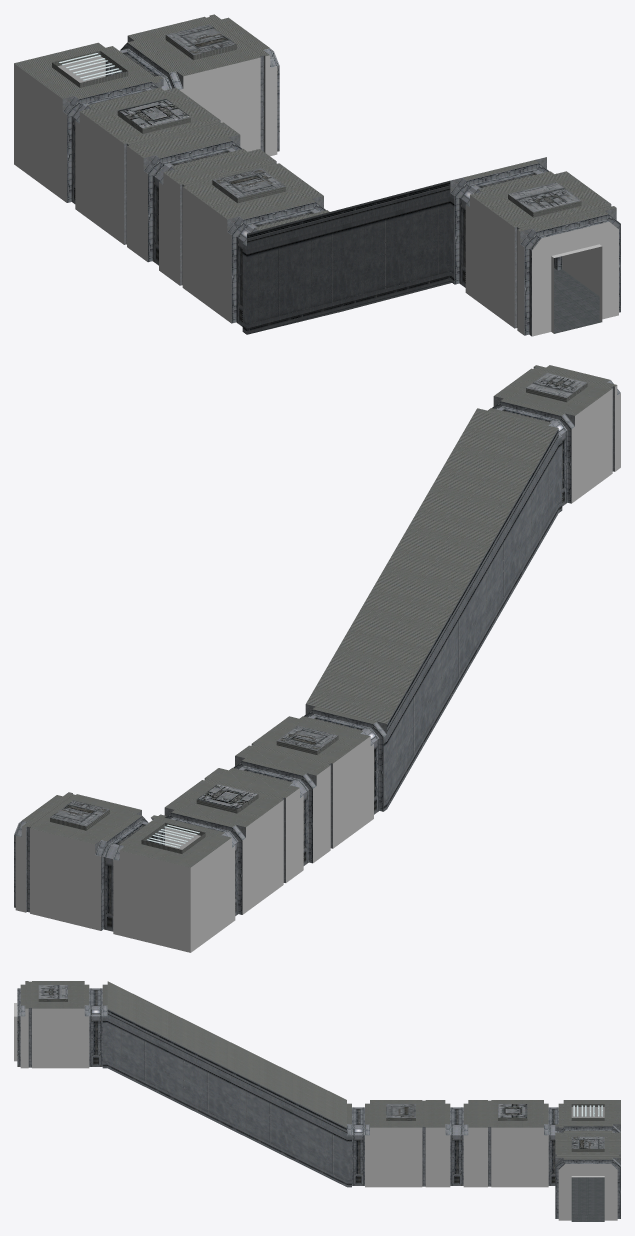
Rendered from poi_all_impl_bunker_warren_s01_r30_hall30_mesh_r30.fbx.
3 renders of one model, top to bottom at view 1: azimuth 30°, elevation 25°; view 2: azimuth 150°, elevation 25°; view 3: azimuth 270°, elevation 25°, orthographic. The views are drawn at different scales.
Visible parts, largest first — view 1: mesh_node; view 2: mesh_node; view 3: mesh_node.
Boxes of the visible parts, left/top/right/bottom form: mesh_node: left=14, top=14, right=620, bottom=336; mesh_node: left=14, top=365, right=620, bottom=952; mesh_node: left=14, top=981, right=620, bottom=1221.
Bounding box in the file's own units: 9 × 12.2 × 37.
